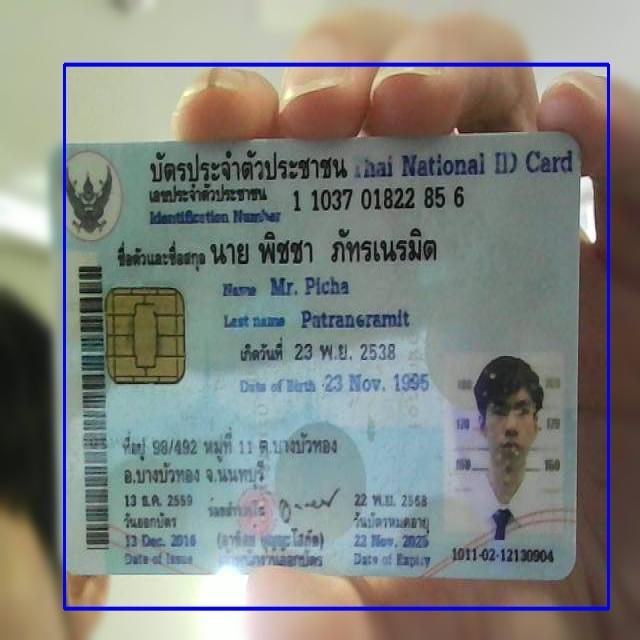Address_th: (119, 416, 348, 494)
Date_of_Birth: (321, 366, 433, 398)
Date_of_Expiry: (352, 528, 435, 554)
Date_of_Issue: (122, 527, 207, 554)
First_Name: (266, 268, 353, 301)
ID_Number: (290, 183, 468, 216)
Image: (445, 353, 562, 536)
Last_Name: (297, 305, 413, 331)
Thai_Name: (206, 224, 449, 271)
